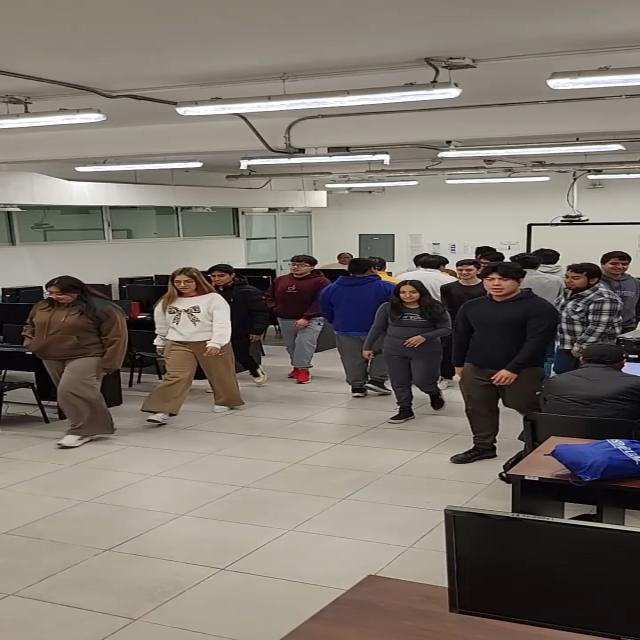Persona: (26, 275, 126, 432), (163, 267, 228, 425), (472, 269, 534, 430), (380, 282, 449, 414), (327, 256, 384, 394), (274, 255, 327, 383), (217, 260, 271, 368), (559, 264, 621, 346), (598, 247, 640, 310), (449, 258, 479, 301)
